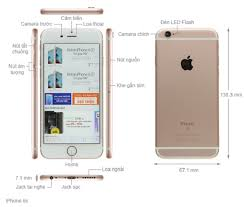iphone: (35, 23, 105, 160), (154, 24, 223, 161)
iphone6: (35, 24, 105, 161), (153, 26, 222, 163)
